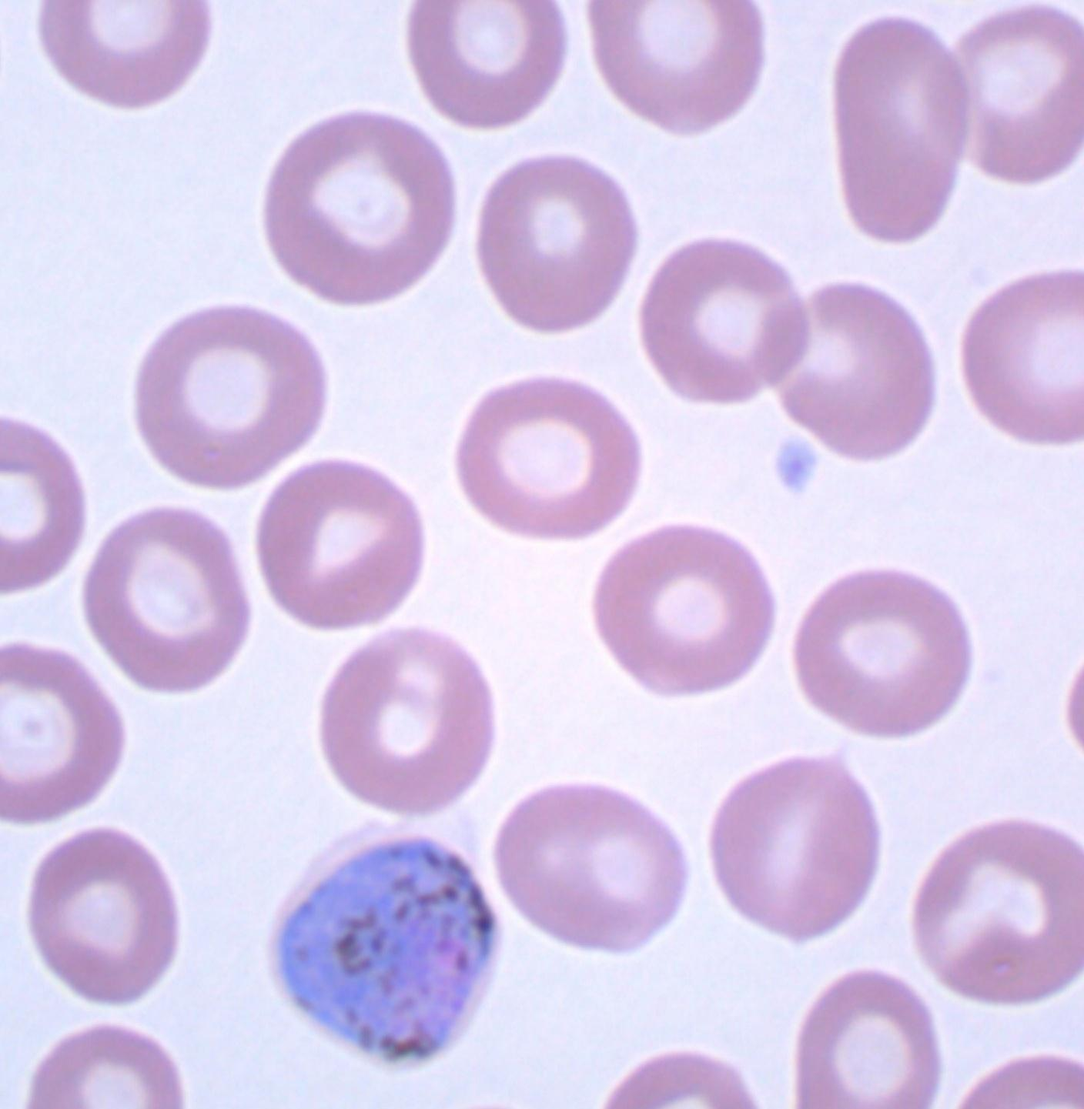Infected: (267, 809, 506, 1070)
Uninfected: (265, 112, 457, 304), (136, 308, 320, 486), (493, 783, 685, 950), (708, 757, 881, 941), (320, 631, 493, 813), (595, 526, 775, 697), (472, 155, 639, 337), (831, 16, 966, 238), (455, 377, 639, 539), (83, 509, 246, 690), (794, 570, 969, 738), (912, 822, 1077, 1000), (258, 460, 428, 630), (779, 286, 936, 457), (639, 239, 806, 399), (25, 827, 176, 1001), (953, 3, 1079, 176)
